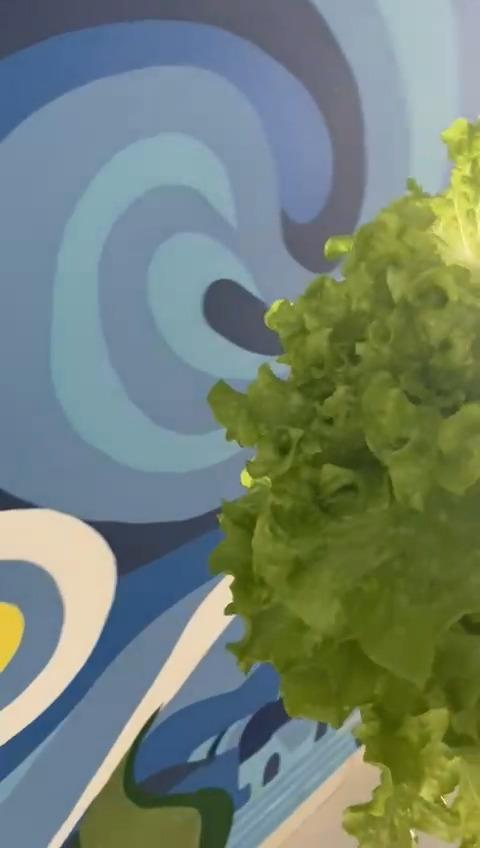Healthy Lettuce: (208, 120, 480, 844)
